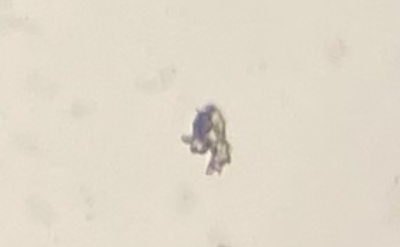microplastic: (181, 104, 232, 177)
